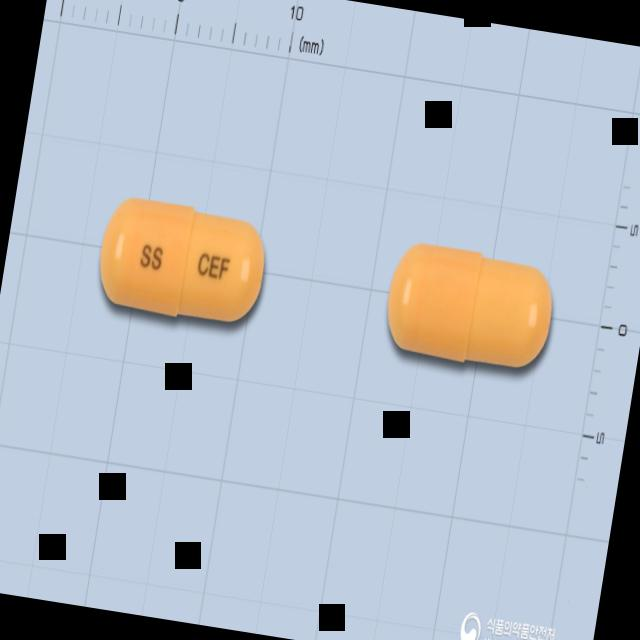Amoxicle: (380, 237, 562, 378), (94, 194, 274, 332)
